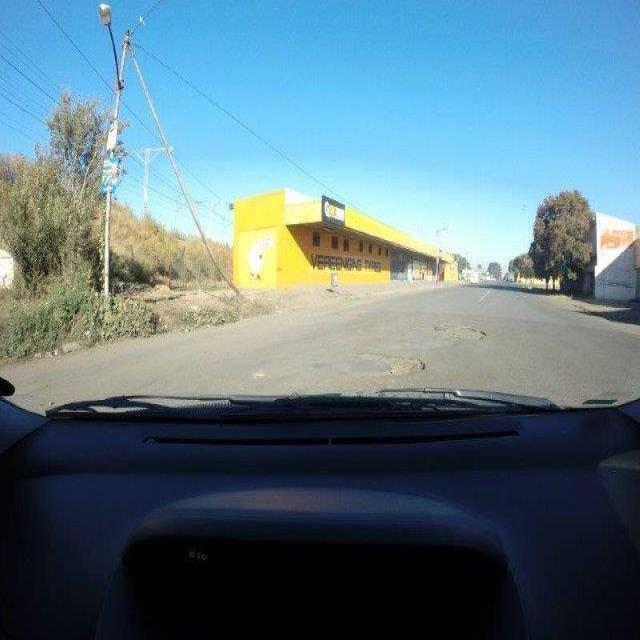lubang: (373, 348, 432, 376), (433, 323, 486, 340)
